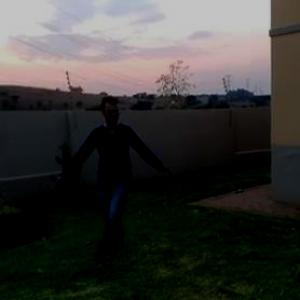land: (50, 84, 166, 271)
